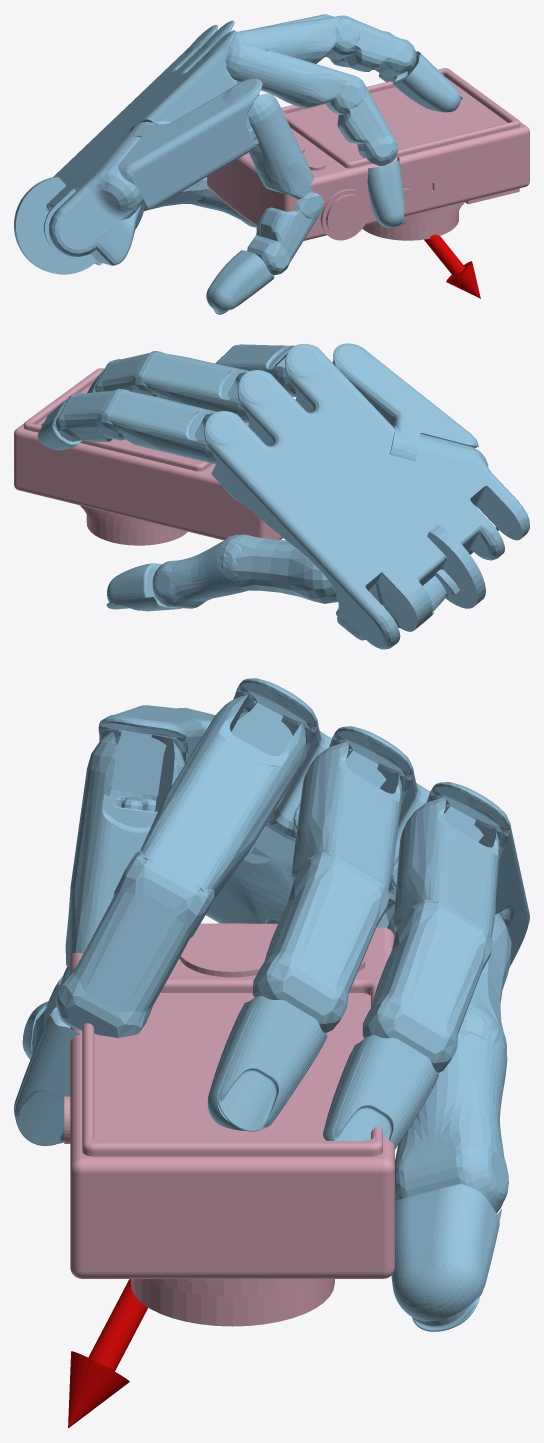
3 renders of one model, top to bottom at view 1: azimuth 30°, elevation 25°; view 2: azimuth 150°, elevation 25°; view 3: azimuth 270°, elevation 25°, orthographic. The views are drawn at different scales.
Parts seen in each view (by area): view 1: world, camera.stl; view 2: world, camera.stl; view 3: world, camera.stl.
Boxes of the visible parts, x1,y1,x2,y2 form: world: (14, 14, 480, 314); camera.stl: (207, 68, 529, 240); world: (37, 343, 529, 649); camera.stl: (14, 368, 282, 545); world: (14, 678, 529, 1428); camera.stl: (64, 923, 394, 1326).
Size of the model in its own units: 0.2071 by 0.122 by 0.1028.
